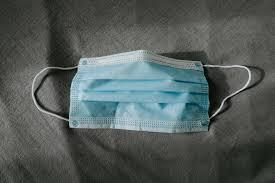Mask: (32, 50, 250, 132)
